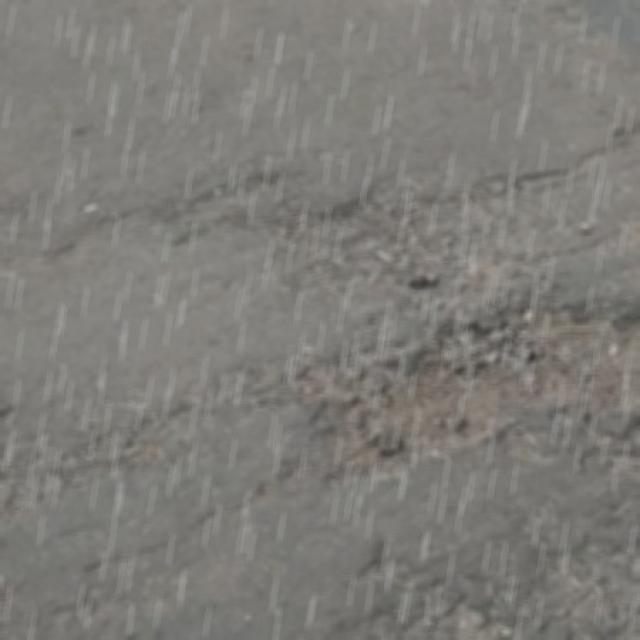road-pothole: (240, 298, 639, 499)
